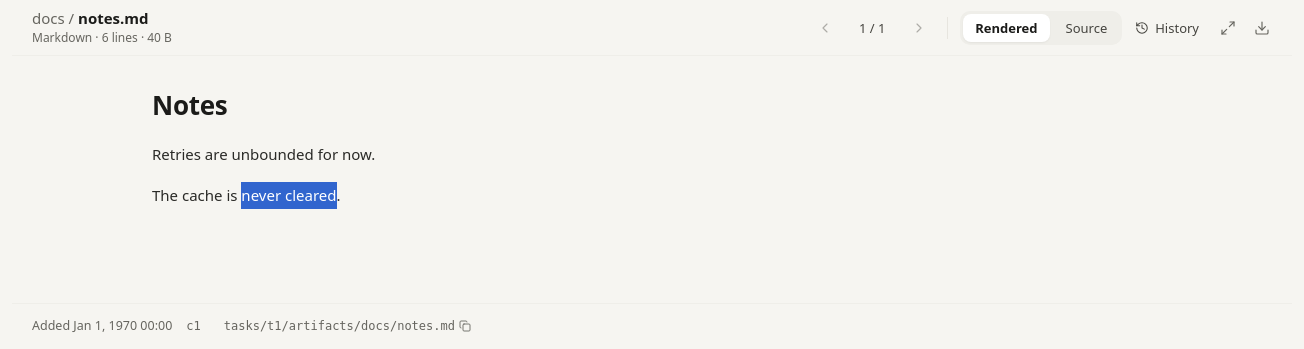
Test case: a review of what is read on the page › copies what is selected, and opens its source with the same words selected to edit them
The width and height of the screenshot is (1304, 349).
Right-click the text "The cache is never cleared.": (246, 195) [152, 185, 340, 205]
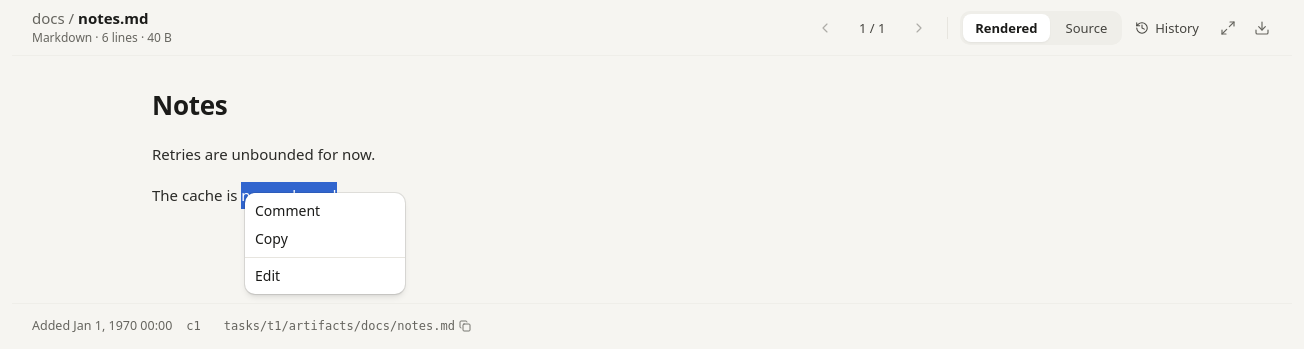
Click the menu item "Edit": (268, 276) [255, 266, 280, 285]
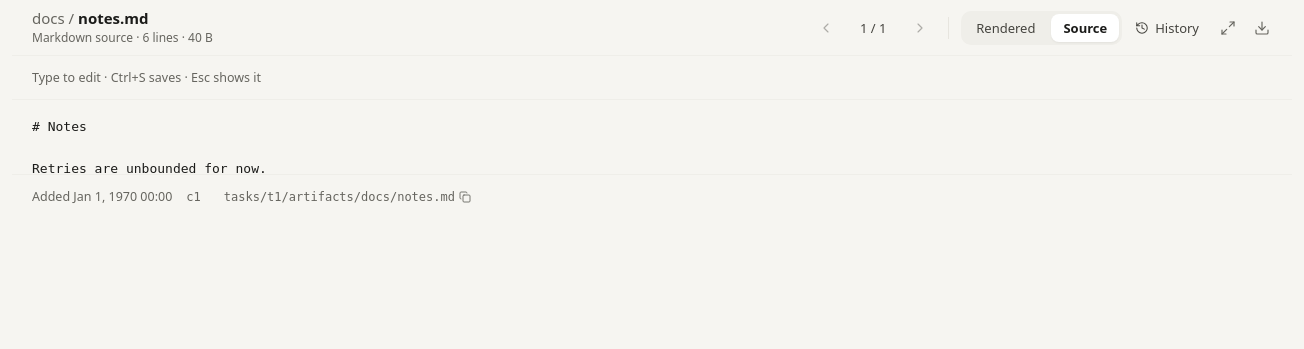
Expected: the text box named "docs/notes.md" is shown, [12, 100, 1292, 174]
